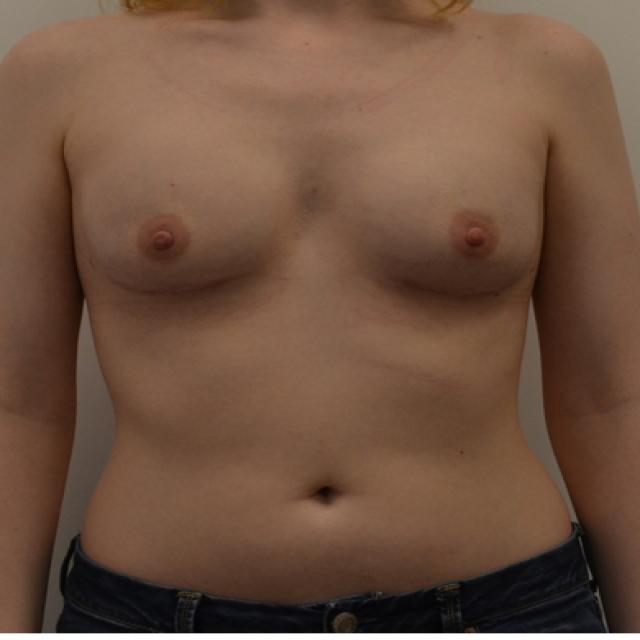Seno ileso: (63, 123, 315, 315), (323, 123, 553, 314)
